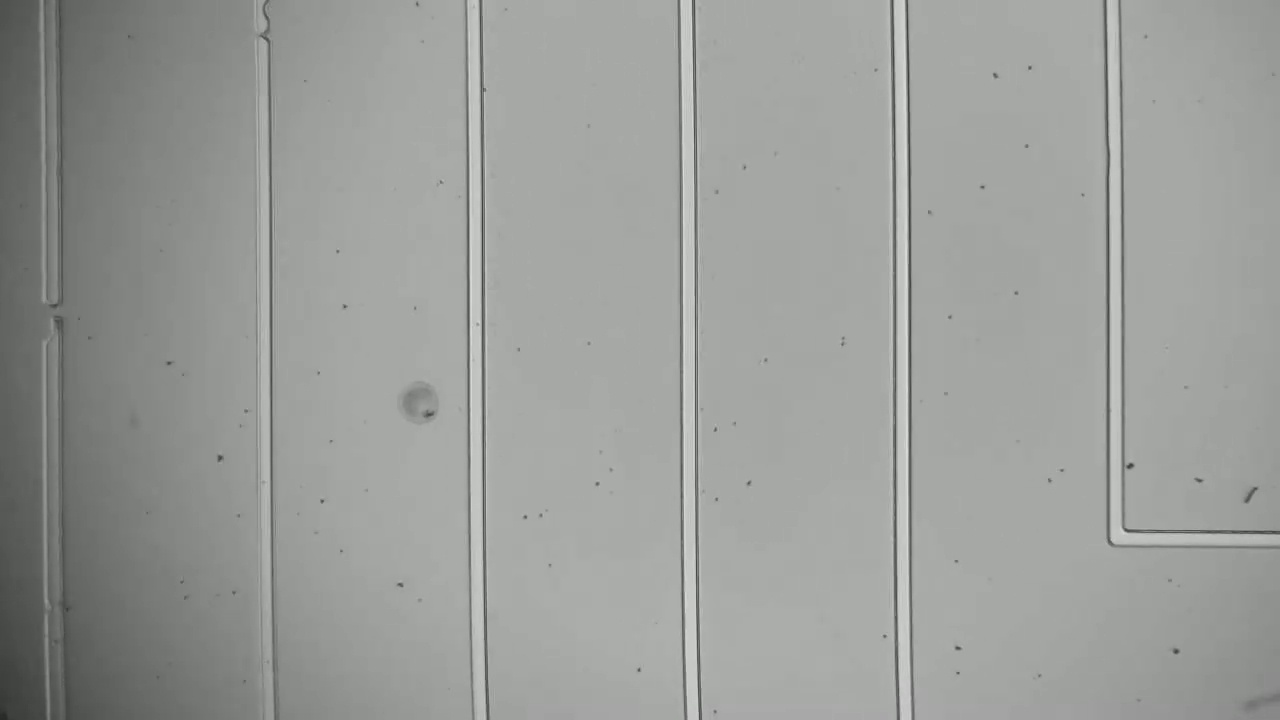edge_bite: (247, 24, 279, 60), (245, 0, 277, 29)
open: (37, 284, 71, 352)
